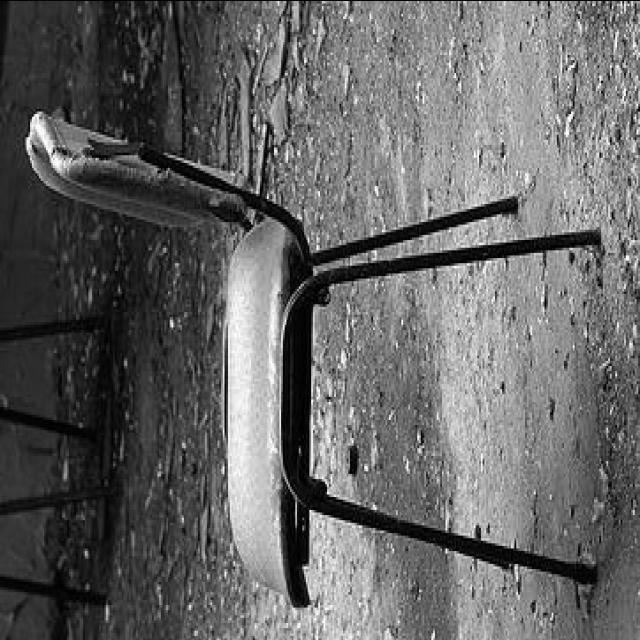chair: (28, 104, 608, 608)
